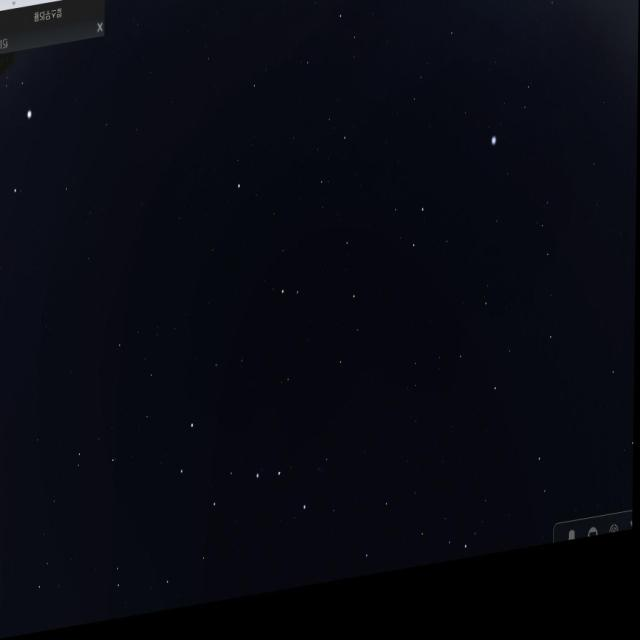lyra: (488, 82, 538, 180)
ursa_major: (176, 407, 314, 560)
